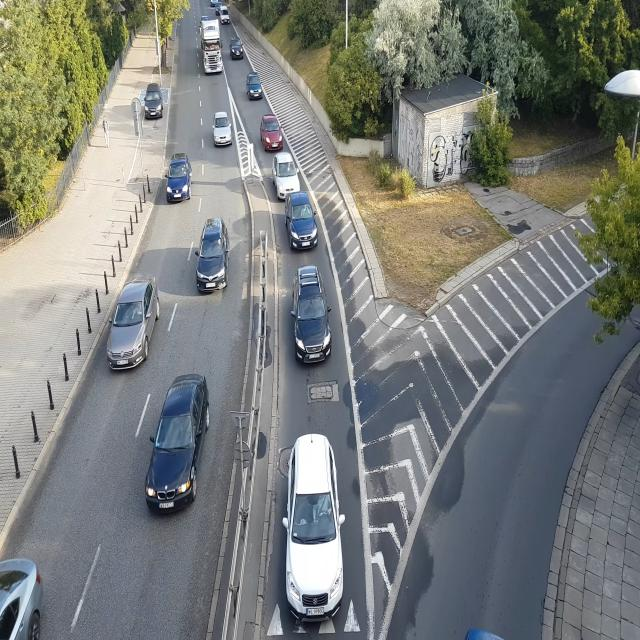car: (280, 413, 352, 617), (145, 377, 206, 512), (0, 539, 51, 640), (109, 281, 158, 371), (293, 273, 334, 362), (197, 217, 230, 291), (283, 192, 319, 251), (168, 155, 194, 204), (274, 151, 300, 200), (259, 114, 283, 152), (212, 111, 234, 148), (143, 85, 164, 119), (230, 38, 244, 58), (248, 84, 265, 100), (221, 12, 231, 24)
truck: (199, 18, 227, 76)
